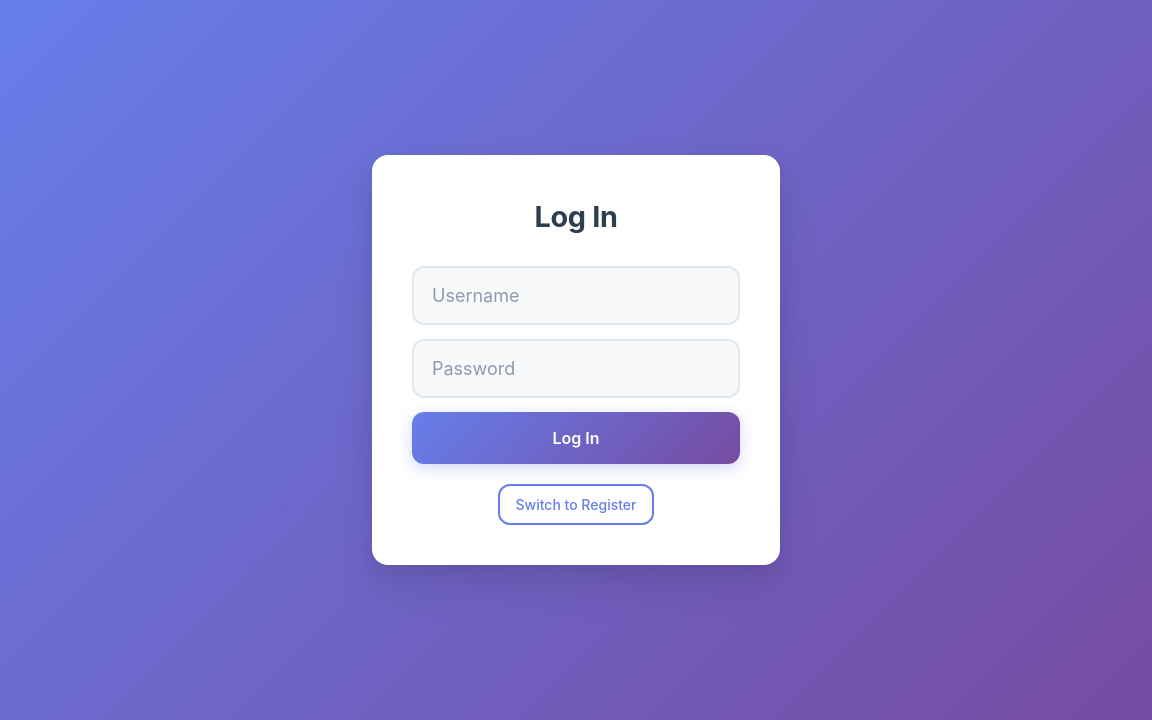
Test: AuthForm › switches to register mode when toggle is clicked
Click the button "Switch to Register" at (576, 505), box [498,484,654,525]
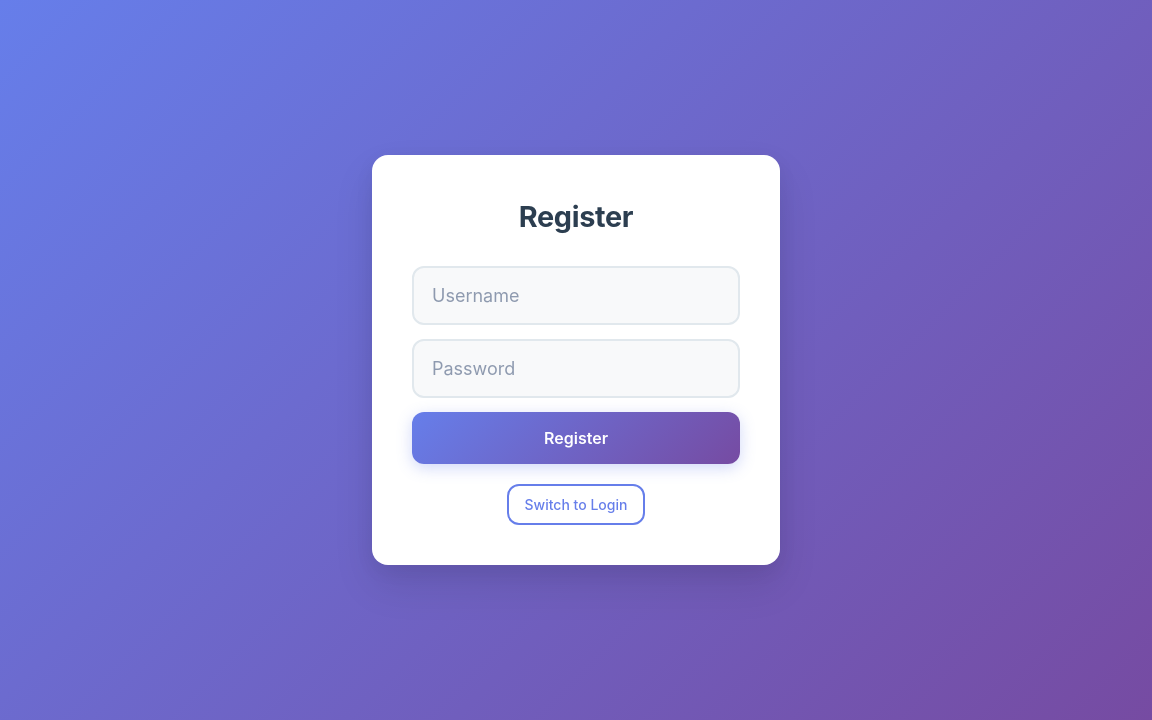
expect the heading "Register" is shown: met, box [519,199,633,234]
